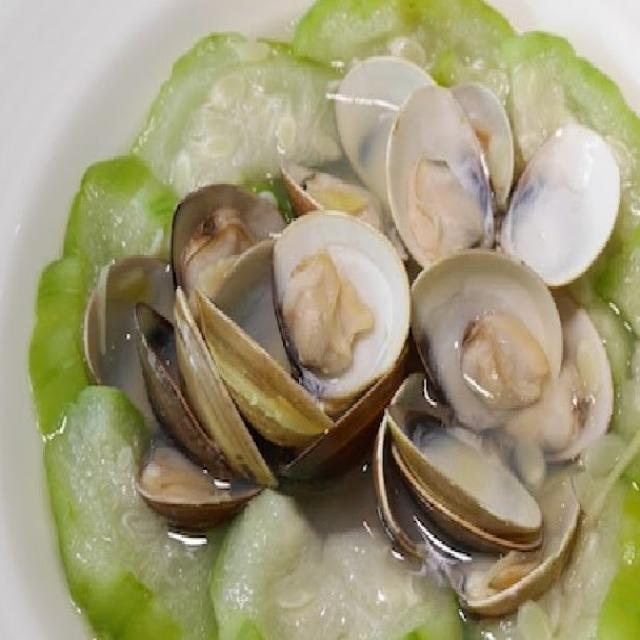Wet: (82, 0, 615, 572)
